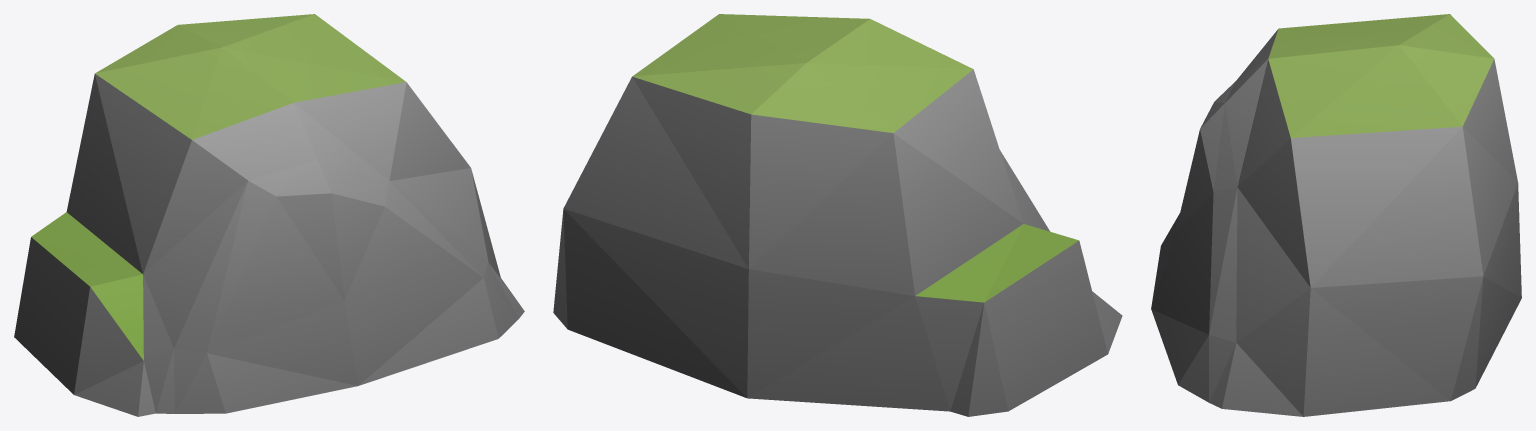
Rendered from green-stone-5.glb.
The picture shows the model from 3 angles, left to right: view 1: azimuth 30°, elevation 25°; view 2: azimuth 150°, elevation 25°; view 3: azimuth 270°, elevation 25°; orthographic projection. The views are drawn at different scales.
Parts seen in each view (by area): view 1: green stone 5; view 2: green stone 5; view 3: green stone 5.
Part boxes in pixels (left/top/right/bottom): green stone 5: left=14, top=14, right=524, bottom=416; green stone 5: left=553, top=14, right=1122, bottom=416; green stone 5: left=1151, top=14, right=1521, bottom=416.
Size of the model in its own units: 0.9234 by 0.5065 by 0.6627.
1 material, 1 textured.
